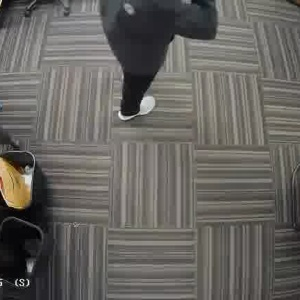person: (99, 0, 187, 123)
